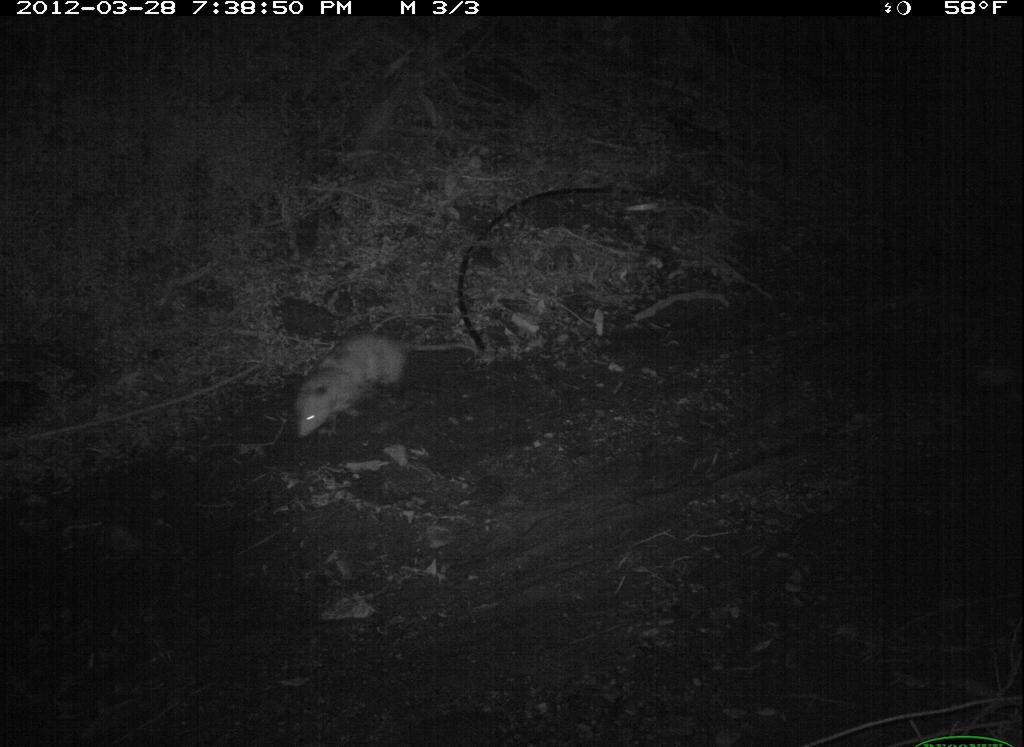opossum: (291, 327, 487, 447)
